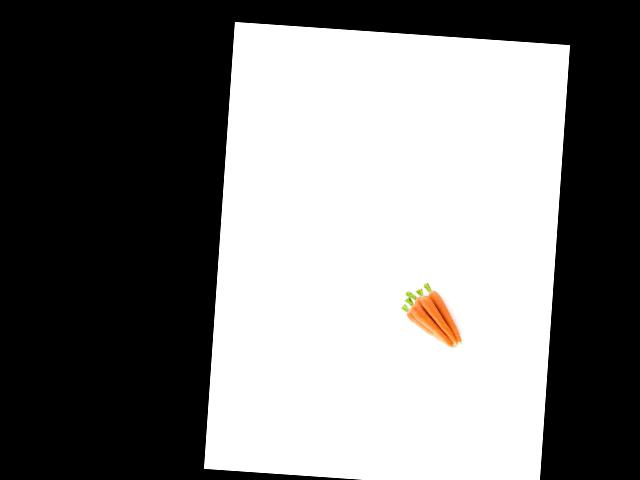carrot: (426, 286, 469, 342)
